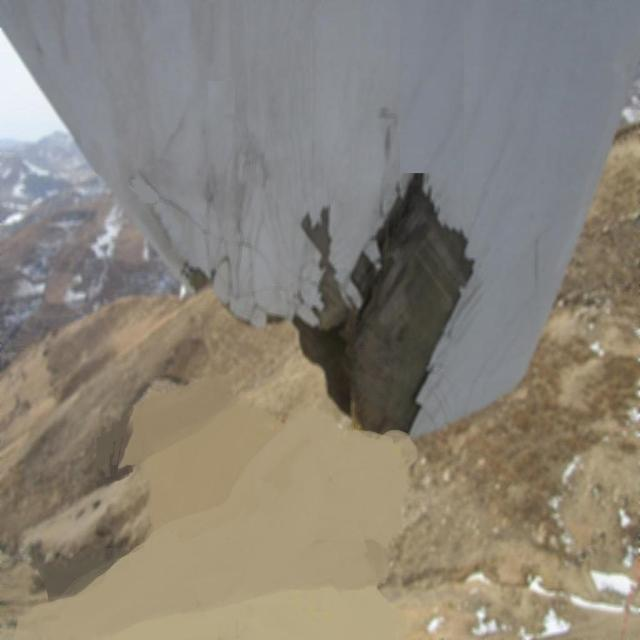crack: (177, 170, 477, 441)
